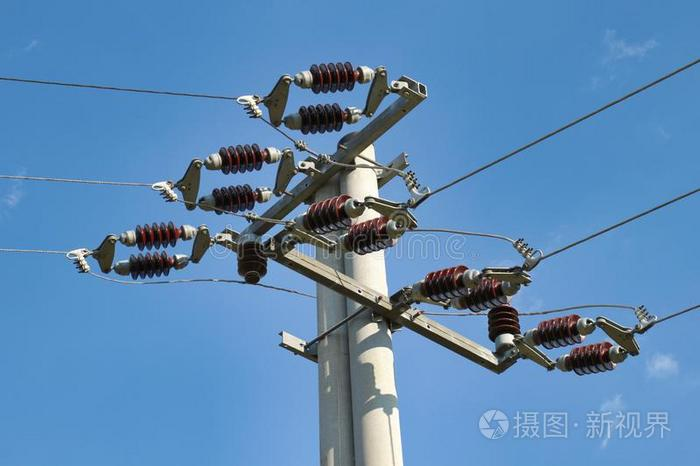insulator: (536, 315, 587, 349), (308, 195, 350, 233), (424, 265, 469, 300), (349, 218, 390, 254), (464, 279, 507, 313), (570, 342, 613, 376), (310, 62, 355, 94), (211, 182, 254, 214), (218, 145, 265, 174), (128, 252, 172, 281), (235, 242, 268, 280), (299, 103, 342, 132), (134, 224, 178, 249), (488, 306, 520, 337)
